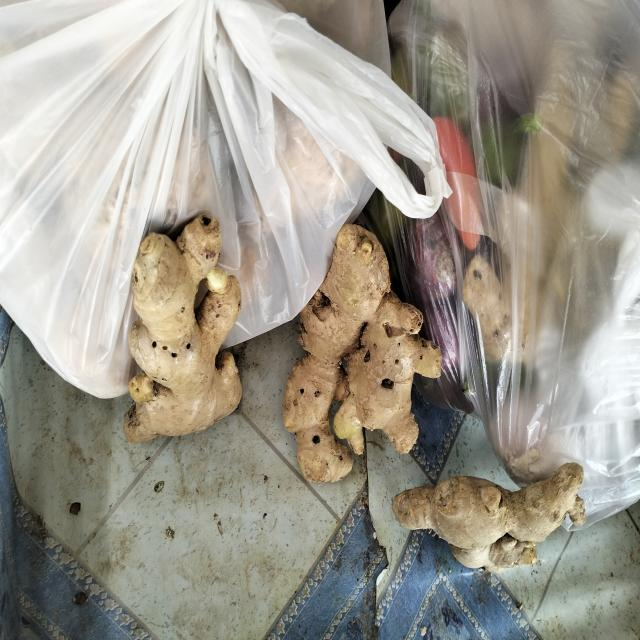ginger: (287, 209, 426, 497), (116, 184, 252, 451), (400, 451, 591, 586)
